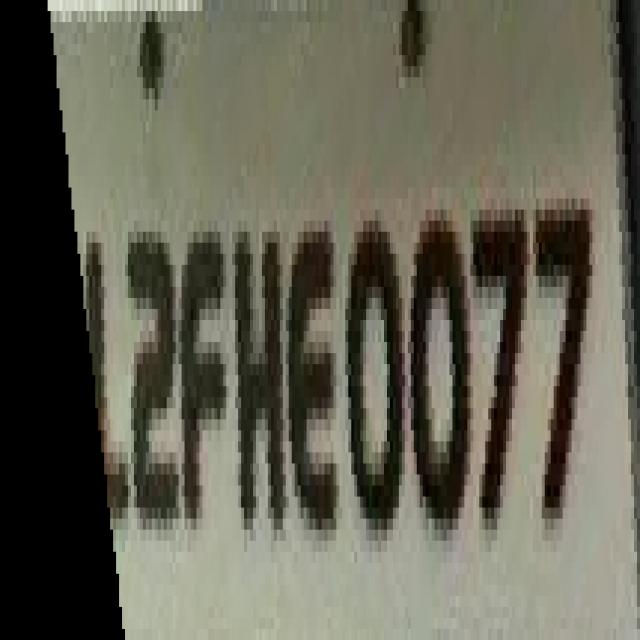license_plate: (24, 33, 640, 618)
